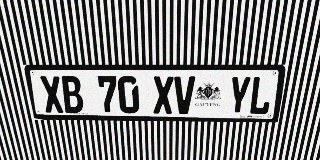0: (117, 76, 139, 114)
7: (96, 76, 119, 113)
B: (60, 76, 84, 113)
L: (248, 76, 274, 115)
V: (174, 76, 195, 114)
X: (39, 76, 65, 113), (153, 76, 174, 114)
Y: (227, 76, 252, 115)
